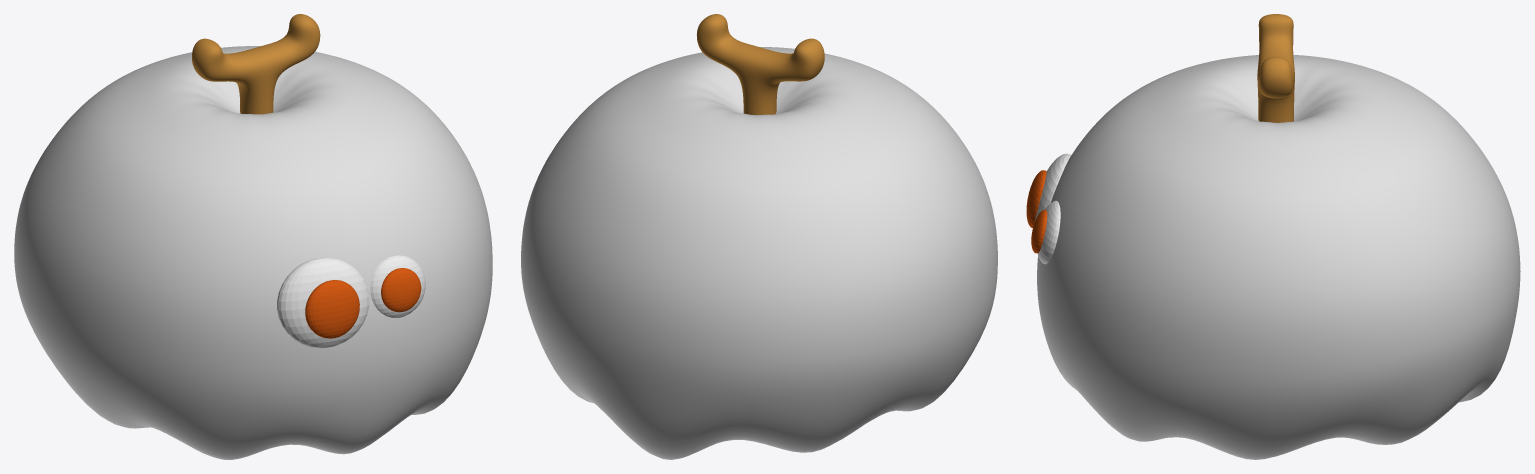
File: spirit_orange.fbx
3 views of the same model, side by side, from view 1: azimuth 30°, elevation 25°; view 2: azimuth 150°, elevation 25°; view 3: azimuth 270°, elevation 25° (orthographic).
Visible parts, largest first — view 1: OrangeSpirit, Cube.006, Sphere.015, Sphere.004, Sphere.036, Sphere.024; view 2: OrangeSpirit, Cube.006; view 3: OrangeSpirit, Cube.006, Sphere.036, Sphere.015, Sphere.004.
Boxes of the visible parts, x1,y1,x2,y2 form: OrangeSpirit: (14, 46, 492, 459); Cube.006: (192, 14, 320, 114); Sphere.015: (277, 257, 369, 348); Sphere.004: (305, 280, 359, 338); Sphere.036: (370, 254, 425, 317); Sphere.024: (381, 268, 421, 312); OrangeSpirit: (521, 47, 997, 459); Cube.006: (696, 14, 824, 115); OrangeSpirit: (1037, 55, 1520, 459); Cube.006: (1257, 14, 1294, 122); Sphere.036: (1037, 200, 1060, 264); Sphere.015: (1034, 153, 1071, 222); Sphere.004: (1026, 170, 1046, 227).
Size of the model in its own units: 112 by 95.56 by 117.
